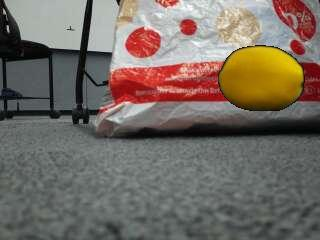lemon: (218, 46, 302, 111)
